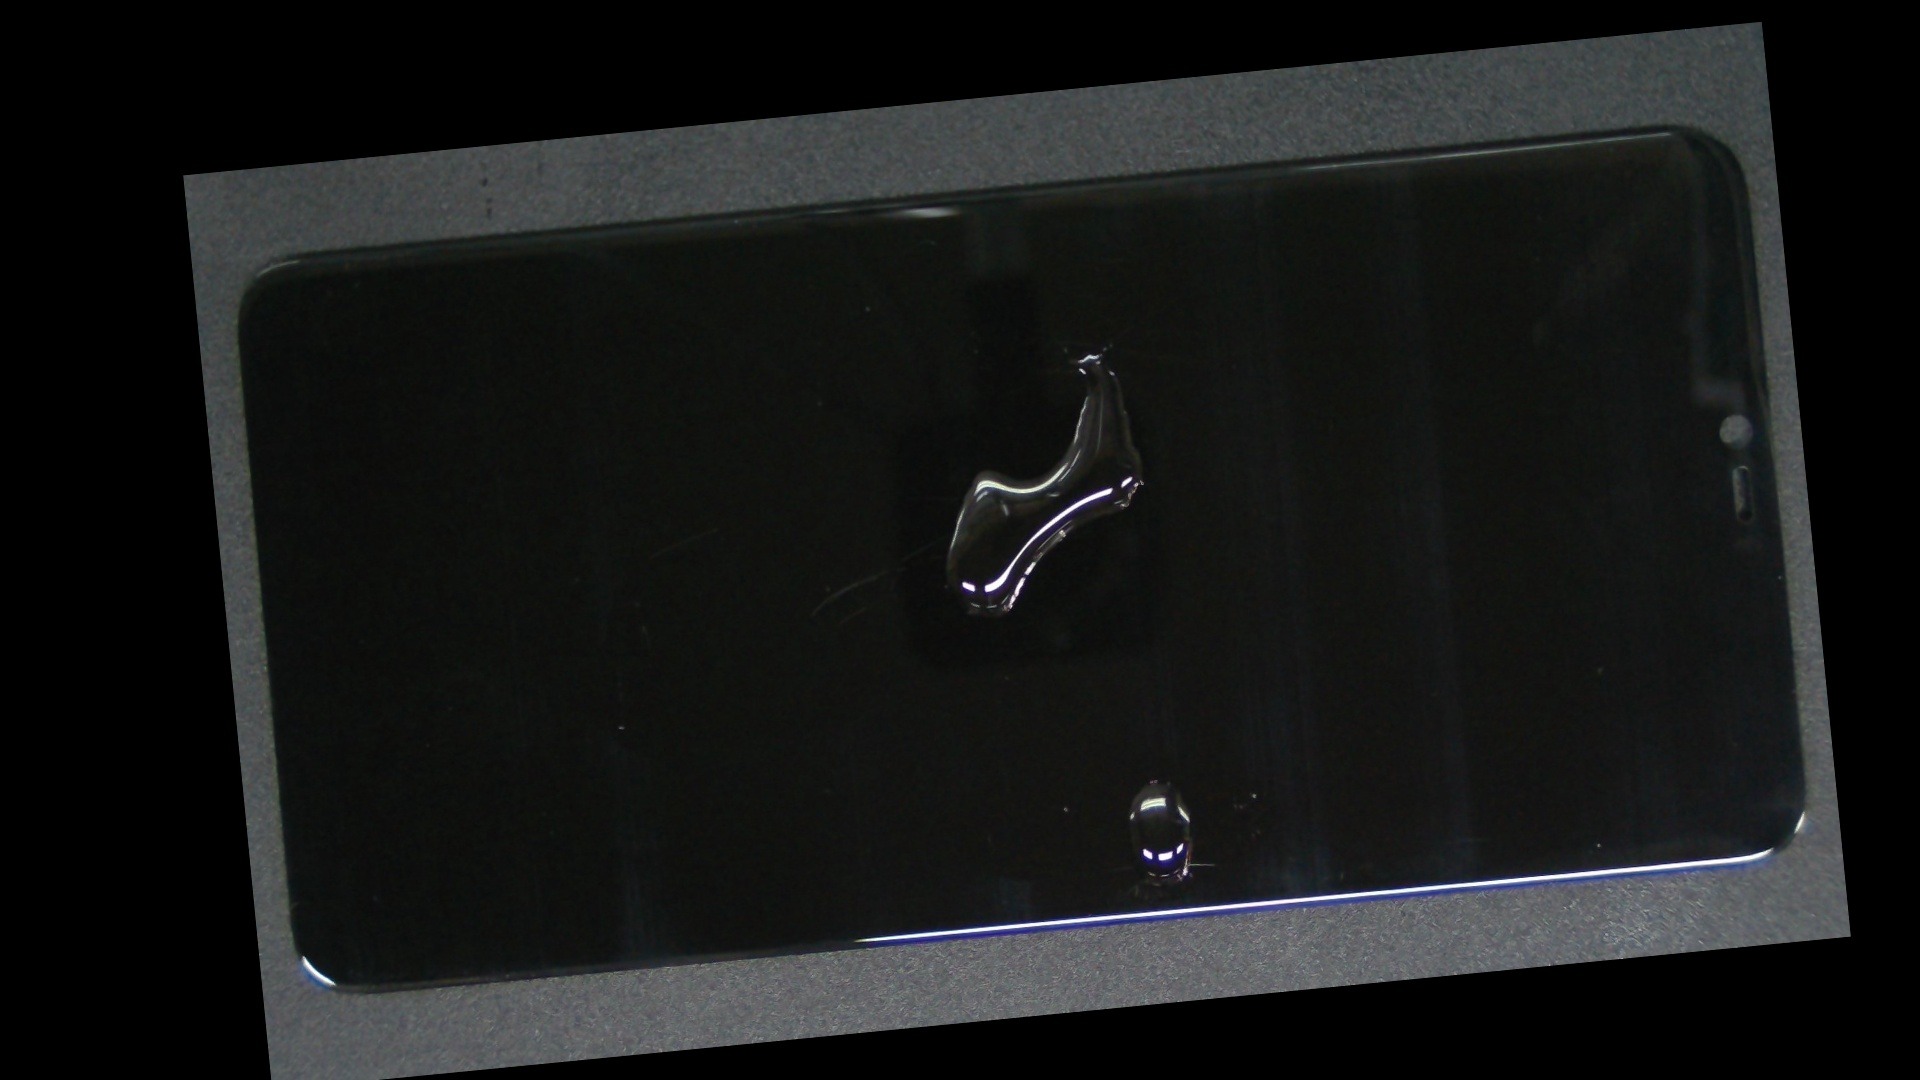oil: (669, 389, 1625, 1046), (637, 178, 1543, 529)
